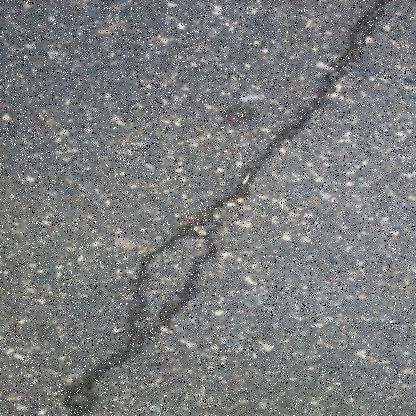Cracks: (58, 0, 400, 415)
